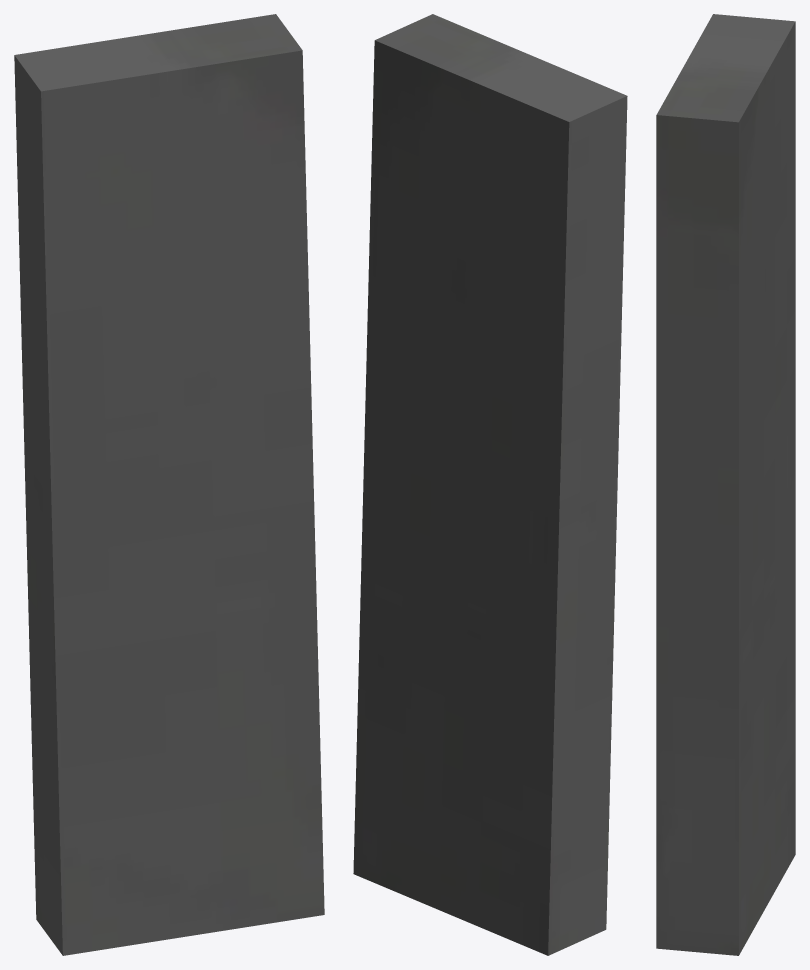
Rendered from fan_right__blade_6.glb.
3 views of the same model, side by side, from view 1: azimuth 30°, elevation 25°; view 2: azimuth 150°, elevation 25°; view 3: azimuth 270°, elevation 25° (orthographic). The views are drawn at different scales.
Parts seen in each view (by area): view 1: world; view 2: world; view 3: world.
Part boxes in pixels (bbox=[...]): world: bbox=[14, 14, 324, 955]; world: bbox=[353, 14, 627, 955]; world: bbox=[656, 14, 795, 955].
Size of the model in its own units: 0.00911 by 0.0282 by 0.00428.
Materials: 1 (1 with a texture image).
